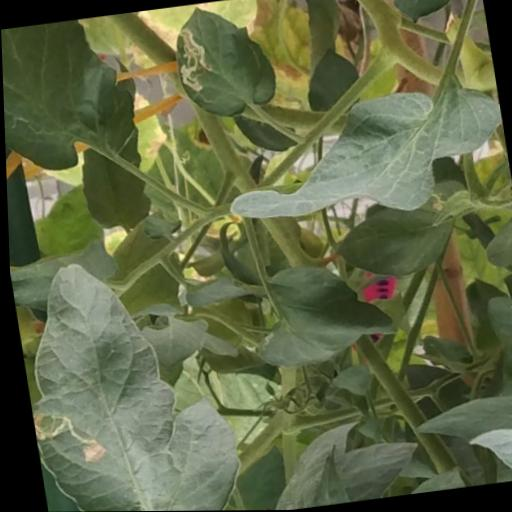Healthy: (214, 79, 512, 234), (330, 200, 459, 285), (73, 126, 153, 236), (404, 387, 512, 450)
Leaf_Miner: (7, 247, 248, 512), (0, 14, 142, 178), (164, 0, 283, 127)
